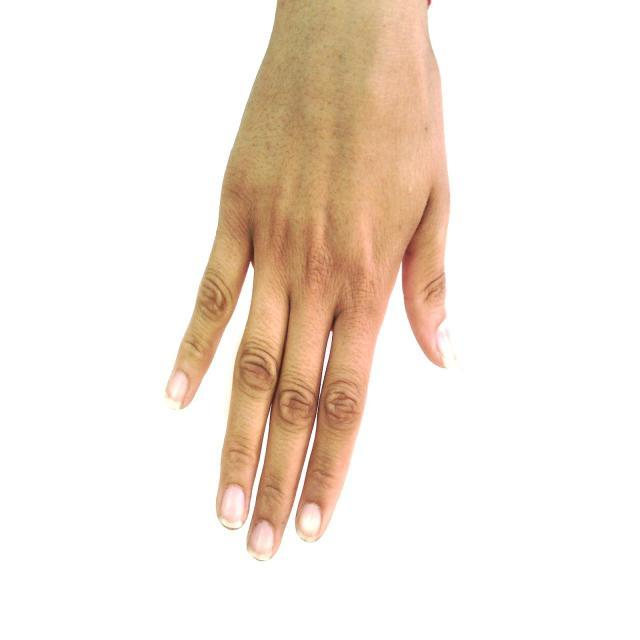Fingernail: (221, 486, 246, 529), (250, 522, 274, 559), (437, 323, 457, 366), (298, 504, 321, 540), (167, 372, 187, 402)
